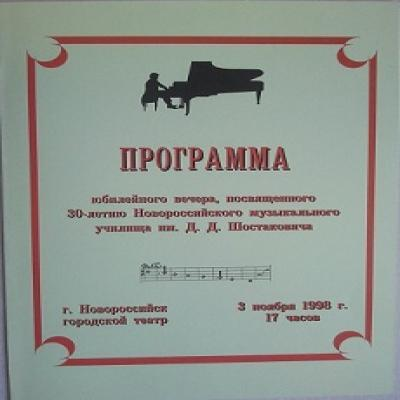document: (7, 0, 400, 400)
